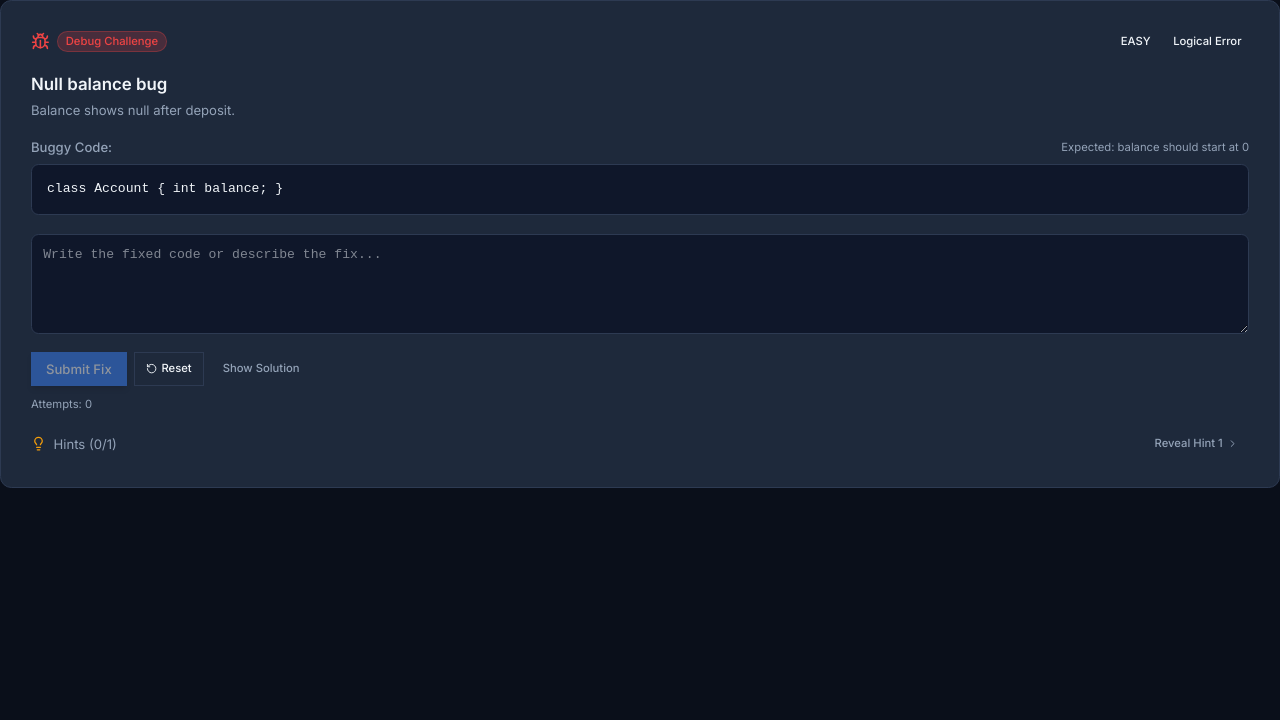
DebuggingLab › marks incorrect attempts and records failed score
Type "totally wrong answer" into the text box at point(640, 284), box [31,234,1249,334]
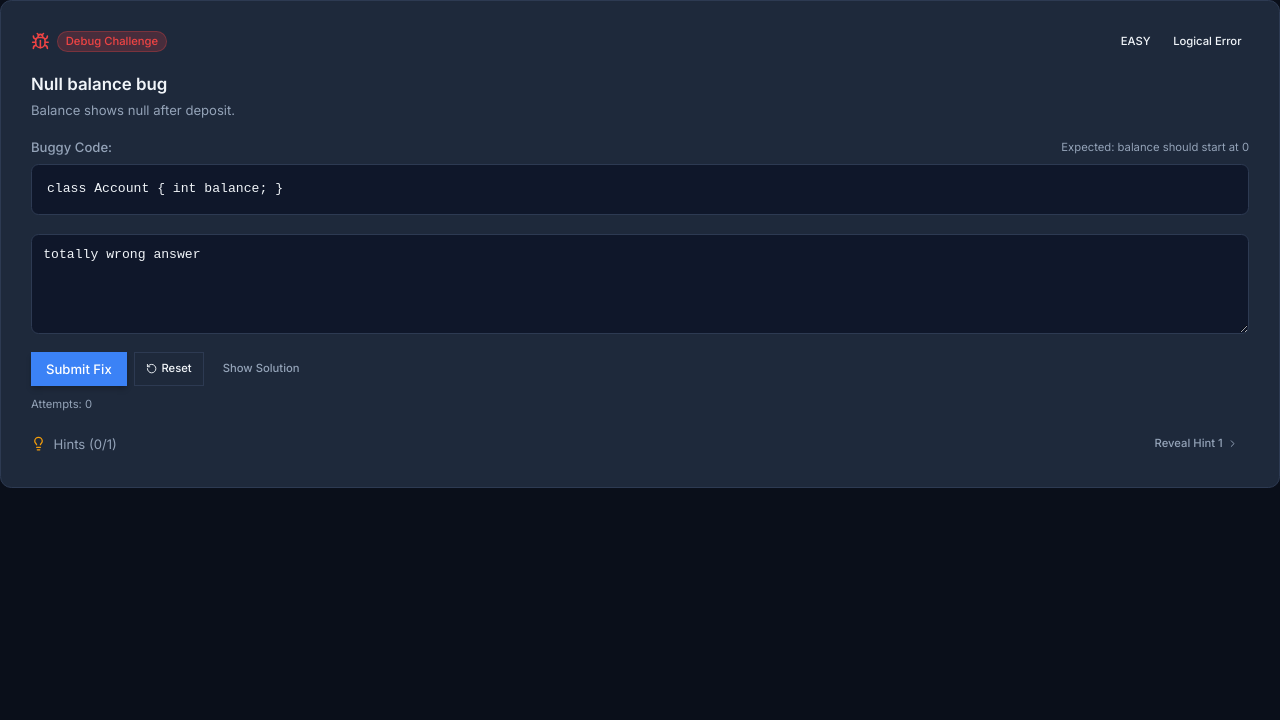
Click the button "Submit Fix" at point(79, 369), box [31,352,127,386]
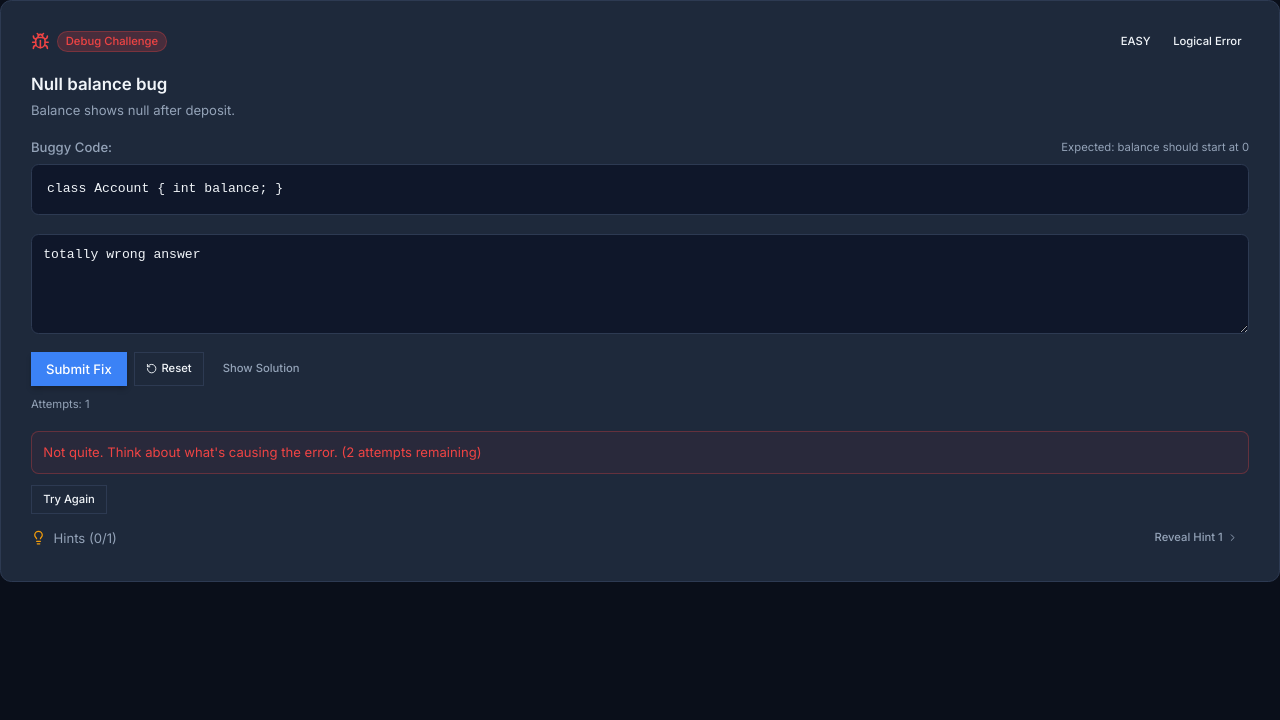
expect the text "Not quite" is shown: met, box [43,444,346,460]
expect the button "Try Again" is shown: met, box [31,485,107,514]
